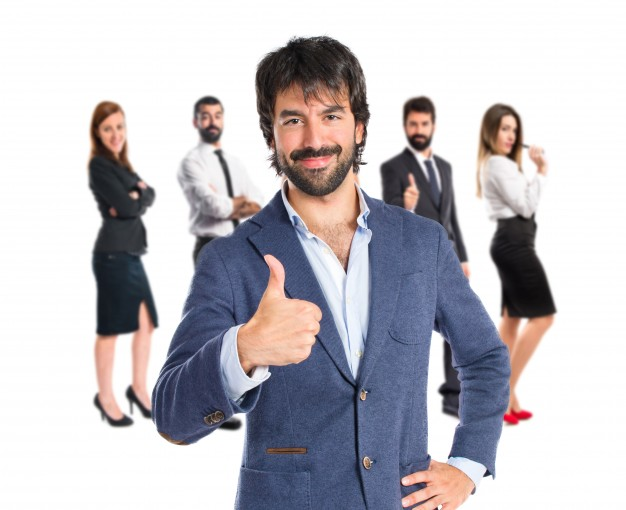thumbsup: (261, 254, 323, 366)
